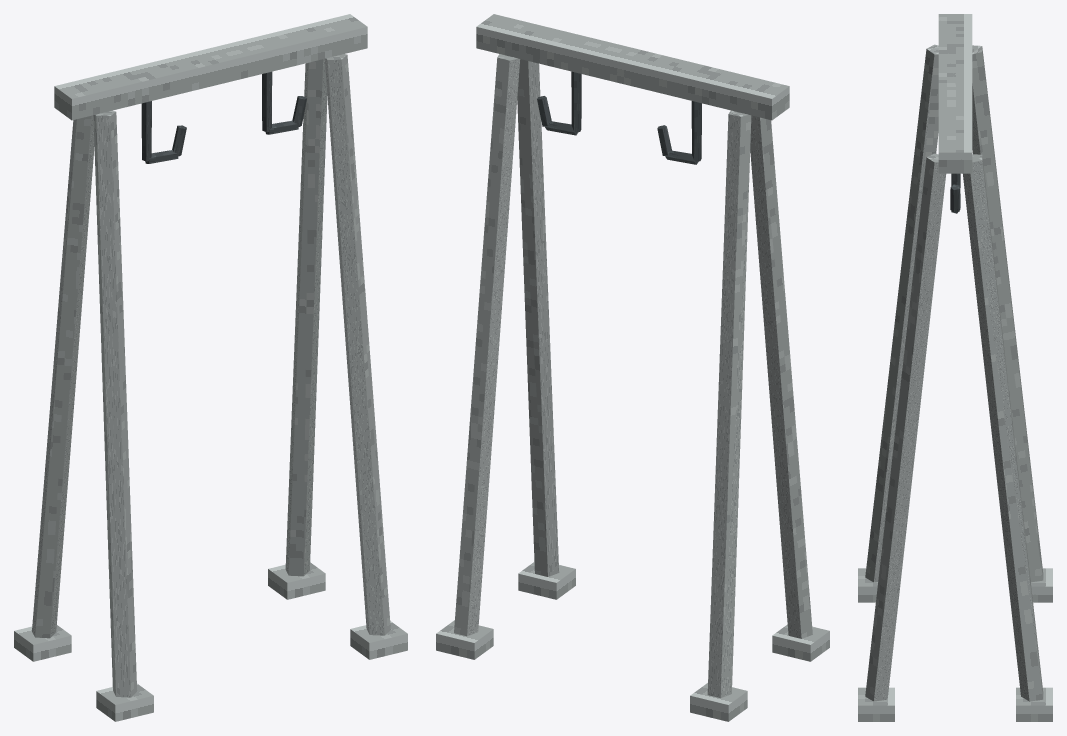
File: f_metal_butcher_rack.glb
3 renders of one model, left to right at view 1: azimuth 30°, elevation 25°; view 2: azimuth 150°, elevation 25°; view 3: azimuth 270°, elevation 25°, orthographic. The views are drawn at different scales.
Visible parts, largest first — view 1: block_A-frame-trestle-1 (×4), block_crossbeam, block_trestle-foot (×4), block_suspended-hook-1; view 2: block_A-frame-trestle-1 (×4), block_crossbeam, block_trestle-foot (×4), block_suspended-hook-1; view 3: block_A-frame-trestle-1 (×4), block_crossbeam, block_trestle-foot (×4).
Part boxes in pixels (<box>): block_A-frame-trestle-1 (×4): <box>32,54,390,697</box>; block_crossbeam: <box>54,14,367,120</box>; block_trestle-foot (×4): <box>14,562,407,721</box>; block_suspended-hook-1: <box>141,101,151,161</box>; block_A-frame-trestle-1 (×4): <box>454,54,812,698</box>; block_crossbeam: <box>476,14,789,120</box>; block_trestle-foot (×4): <box>436,562,829,721</box>; block_suspended-hook-1: <box>571,71,581,131</box>; block_A-frame-trestle-1 (×4): <box>865,44,1043,701</box>; block_crossbeam: <box>938,14,972,173</box>; block_trestle-foot (×4): <box>858,568,1052,721</box>.
Size of the model in its own units: 0.878 by 1.68 by 0.521.
Materials: 1 (1 with a texture image).
